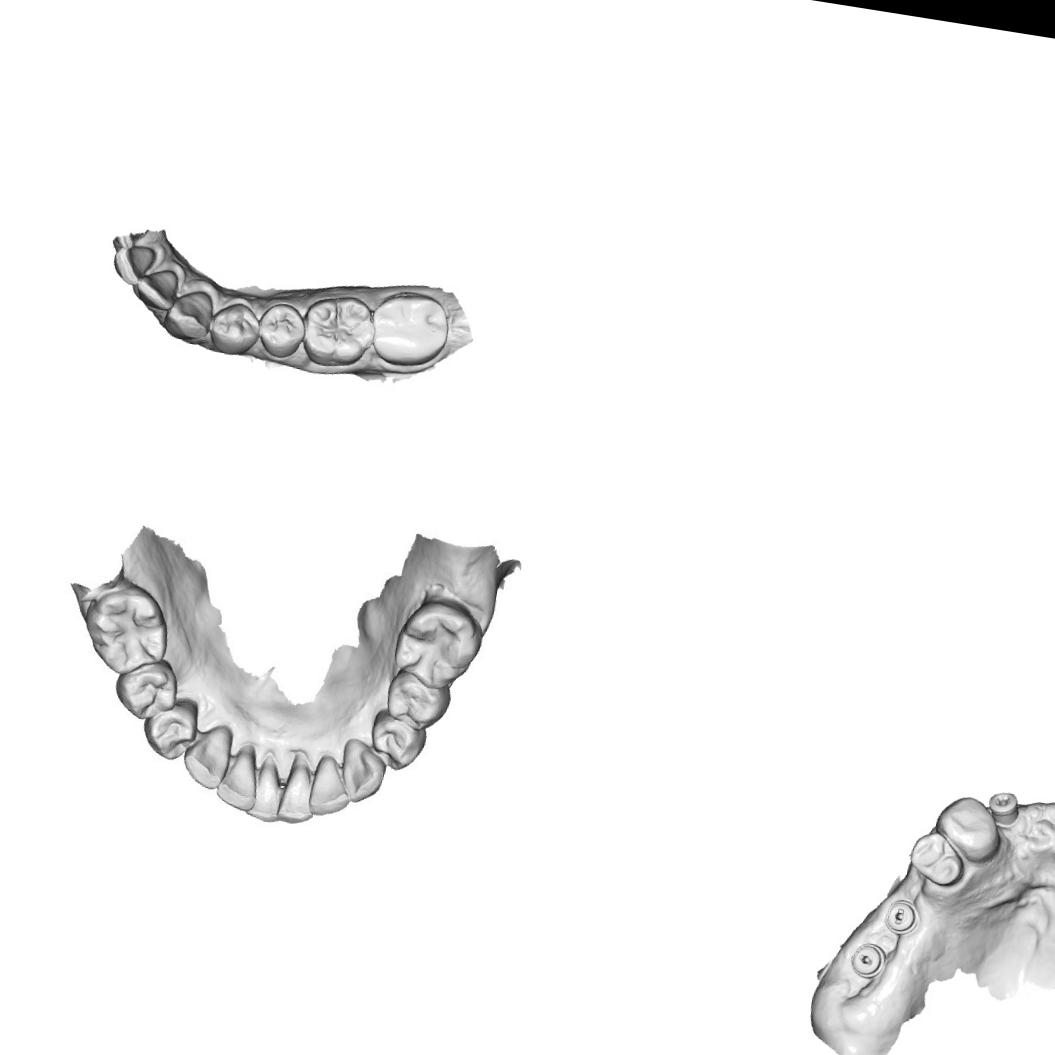canine: (159, 281, 217, 346), (337, 741, 390, 802), (182, 726, 233, 788)
implant: (984, 788, 1024, 829)
implant_minus: (844, 936, 890, 983), (880, 896, 920, 939)
incisor: (306, 758, 359, 821), (218, 740, 266, 806), (129, 261, 184, 318), (278, 759, 326, 823), (106, 238, 161, 292), (249, 754, 287, 816)
molar: (390, 595, 487, 696), (82, 577, 169, 676), (365, 285, 455, 374), (295, 287, 378, 374)
premolar: (929, 789, 1008, 868), (115, 659, 182, 724), (382, 669, 452, 731), (138, 693, 198, 764), (204, 296, 266, 361), (905, 827, 970, 889), (251, 298, 310, 363), (368, 712, 429, 772)
